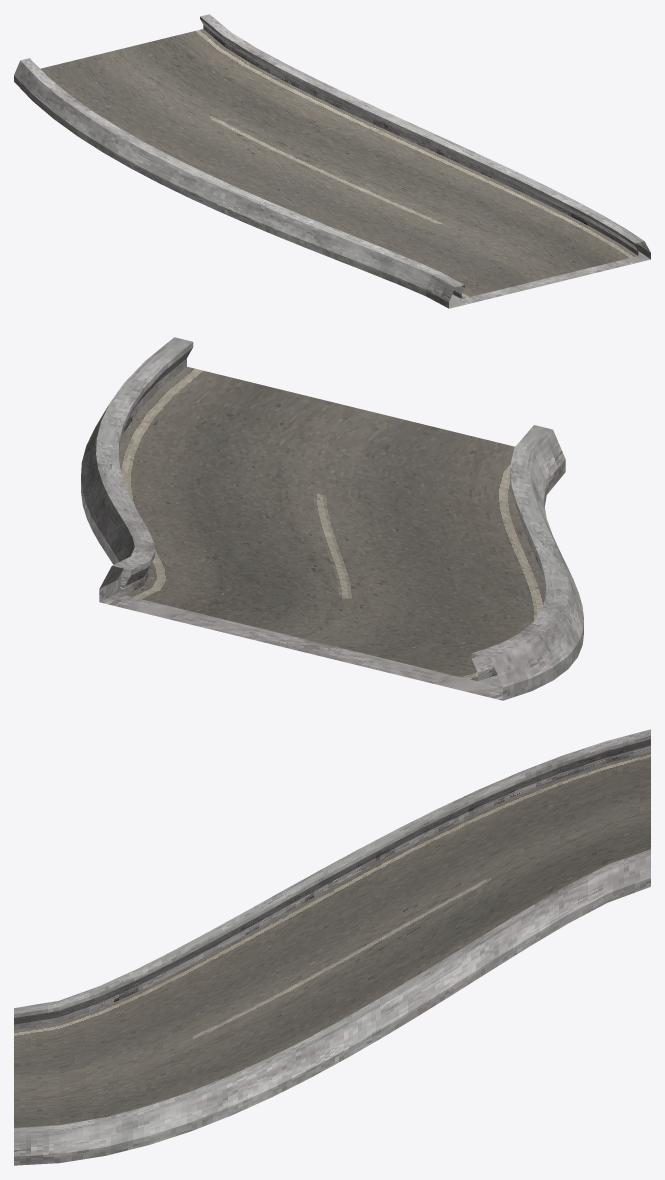
File: road-Chicane-Flat-BiSlopeUp-Up2-Left1-Size2.glb
The picture shows the model from 3 angles, top to bottom: view 1: azimuth 30°, elevation 25°; view 2: azimuth 150°, elevation 25°; view 3: azimuth 270°, elevation 25°; orthographic projection. The views are drawn at different scales.
Visible parts, largest first — view 1: road-Chicane-Flat-BiSlopeUp-Up2-Left1-Size2; view 2: road-Chicane-Flat-BiSlopeUp-Up2-Left1-Size2; view 3: road-Chicane-Flat-BiSlopeUp-Up2-Left1-Size2.
Boxes of the visible parts, box(x1,y1,x2,y2) form: road-Chicane-Flat-BiSlopeUp-Up2-Left1-Size2: box(14, 14, 650, 308); road-Chicane-Flat-BiSlopeUp-Up2-Left1-Size2: box(81, 337, 583, 700); road-Chicane-Flat-BiSlopeUp-Up2-Left1-Size2: box(14, 729, 650, 1165).
Size of the model in its own units: 2 by 0.5938 by 2.
Materials: 2 (2 with a texture image).
